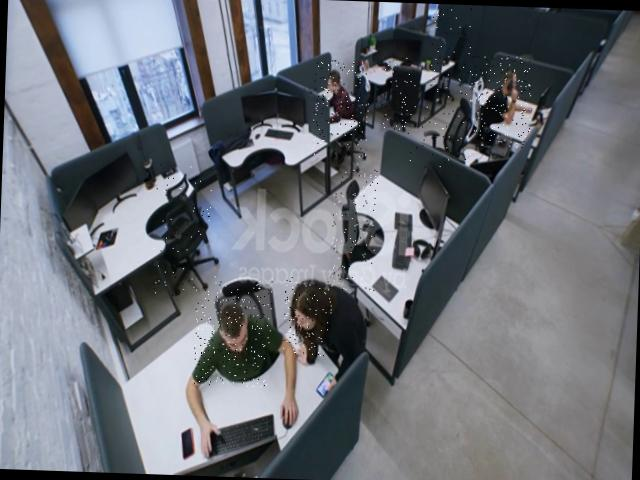empty chair: (152, 164, 212, 298), (331, 168, 378, 290), (407, 96, 474, 170), (430, 5, 474, 96), (381, 56, 417, 131)
occupiedchair: (194, 276, 272, 388), (462, 55, 532, 149), (312, 60, 370, 158)
